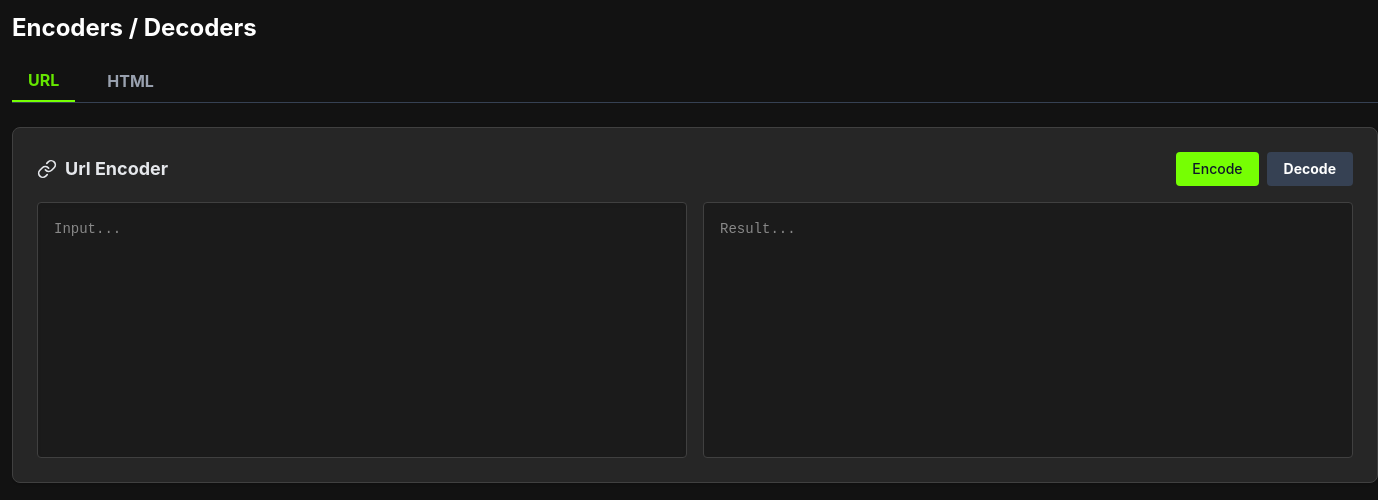
Test: EncoderTool › handles URL encoding
The image size is (1378, 500).
Note: Select input textarea mapping
Type "hello world" into the text box with placeholder "Input..." at (362, 330), box [37,202,687,458]
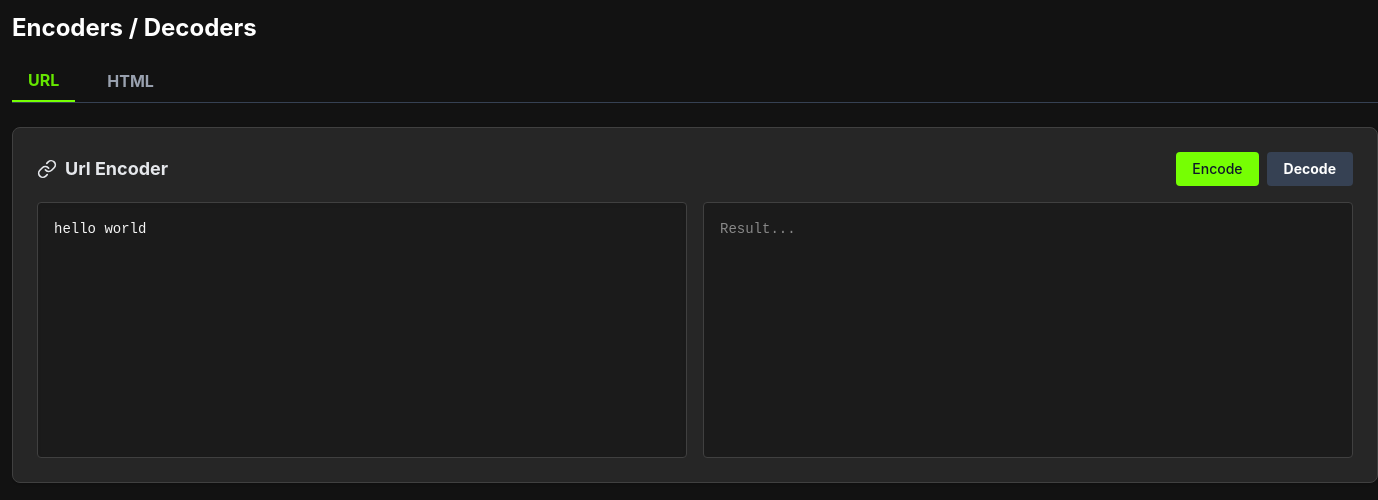
Note: Exact button text match
Click the button "Encode" at (1217, 169), box [1176,152,1259,186]
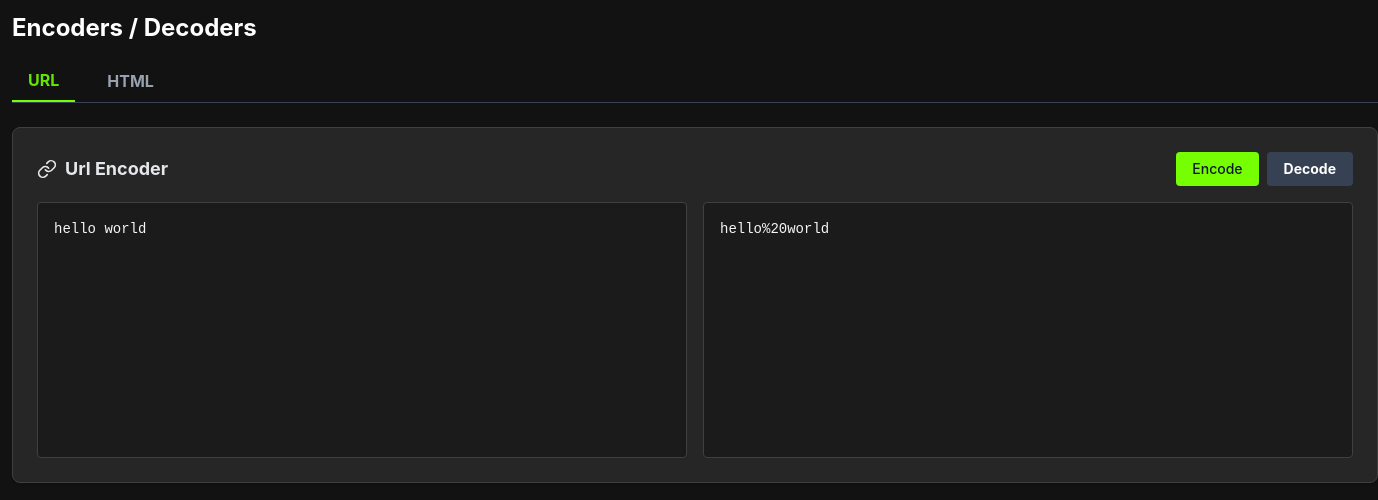
Expected: the 2nd text box showing "hello%20world" is shown, [703,202,1353,458]
